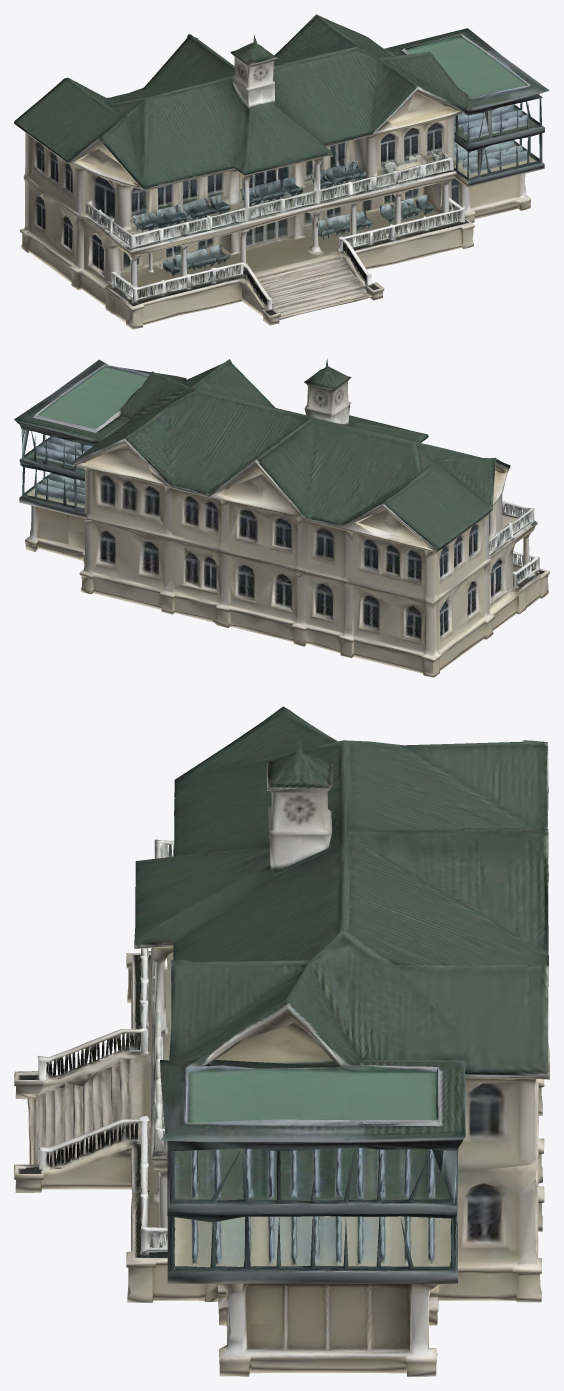
The model's file is pavilion.glb.
3 renders of one model, top to bottom at view 1: azimuth 30°, elevation 25°; view 2: azimuth 150°, elevation 25°; view 3: azimuth 270°, elevation 25°, orthographic. The views are drawn at different scales.
Parts seen in each view (by area): view 1: pavilion; view 2: pavilion; view 3: pavilion.
Part boxes in pixels (<box>): pavilion: <box>14,14,549,329</box>; pavilion: <box>14,358,549,677</box>; pavilion: <box>14,706,549,1376</box>.
Size of the model in its own units: 46 by 22.52 by 26.66.
1 material, 1 textured.
